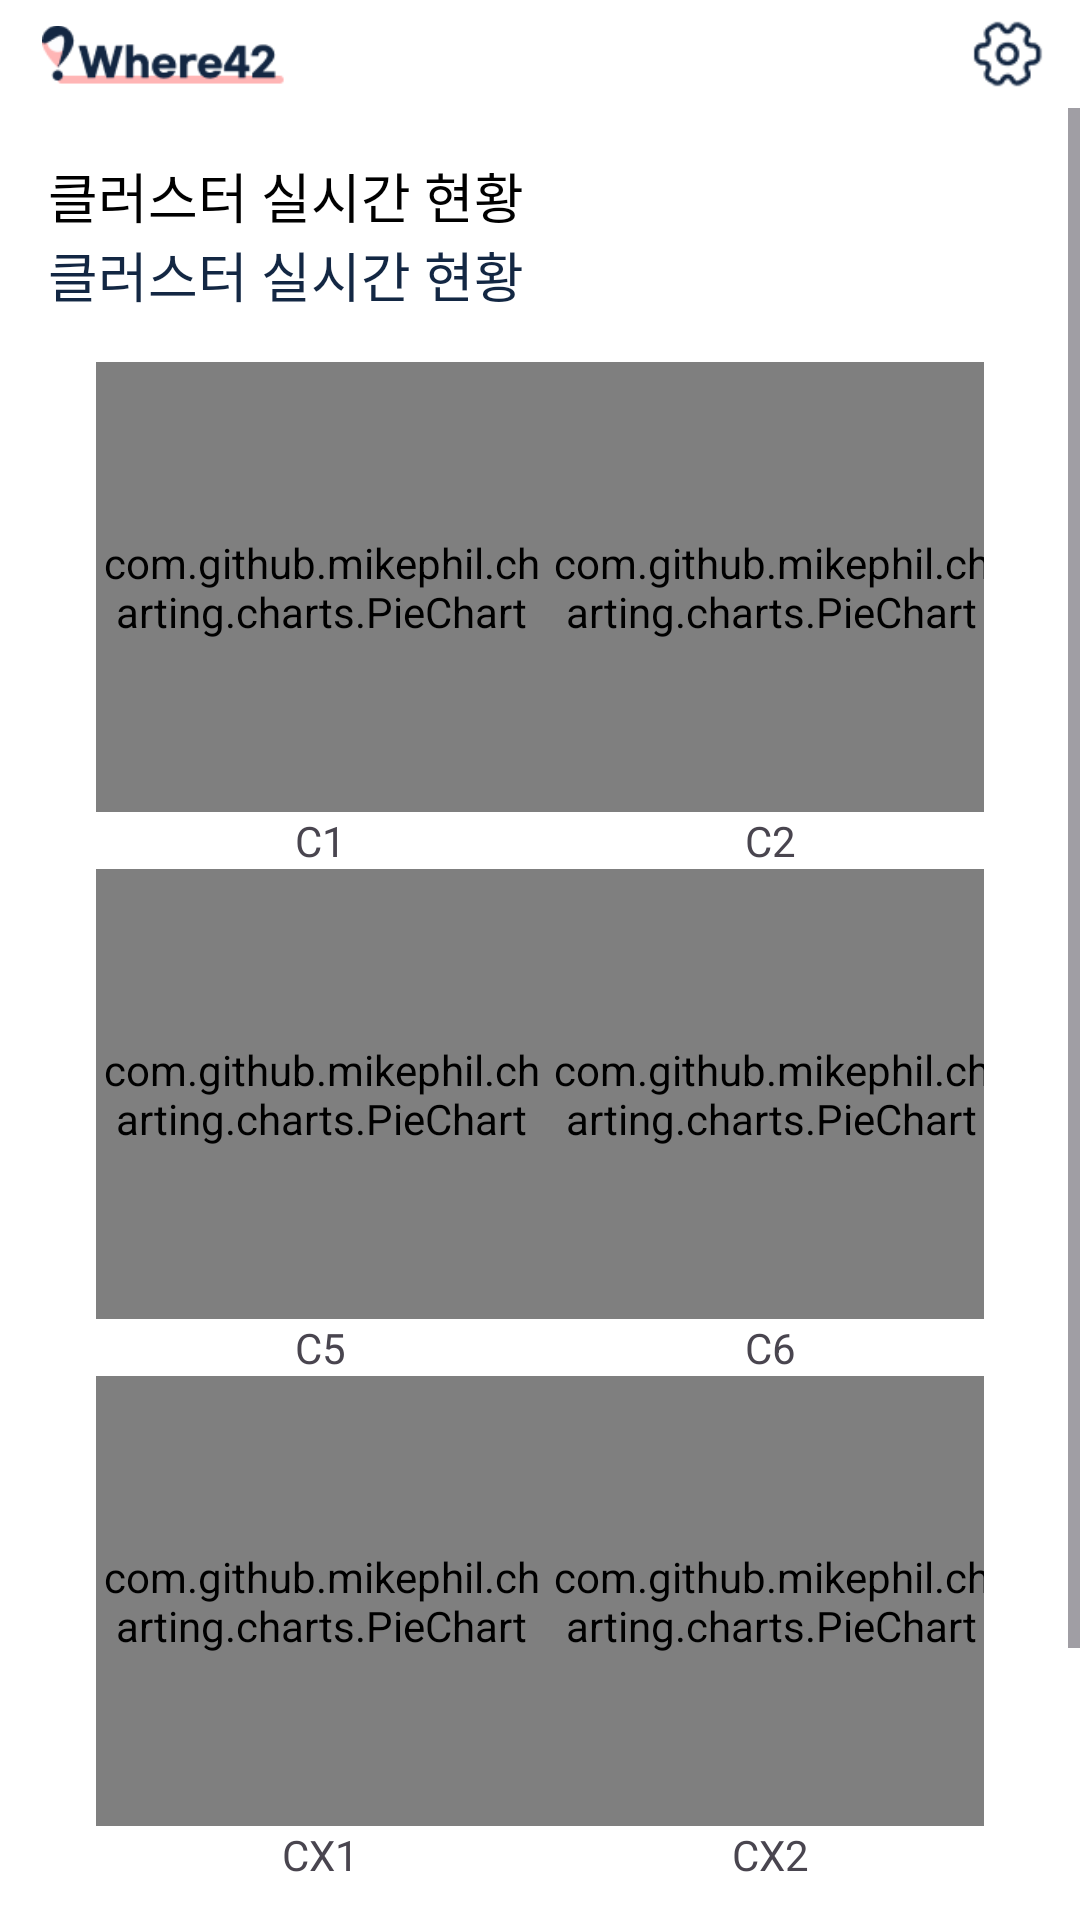

Icon bounding boxes for this 1080 × 1920 phone screenshot, format detection(x1, y1, x2, y2):
settings: detection(974, 21, 1042, 87)
